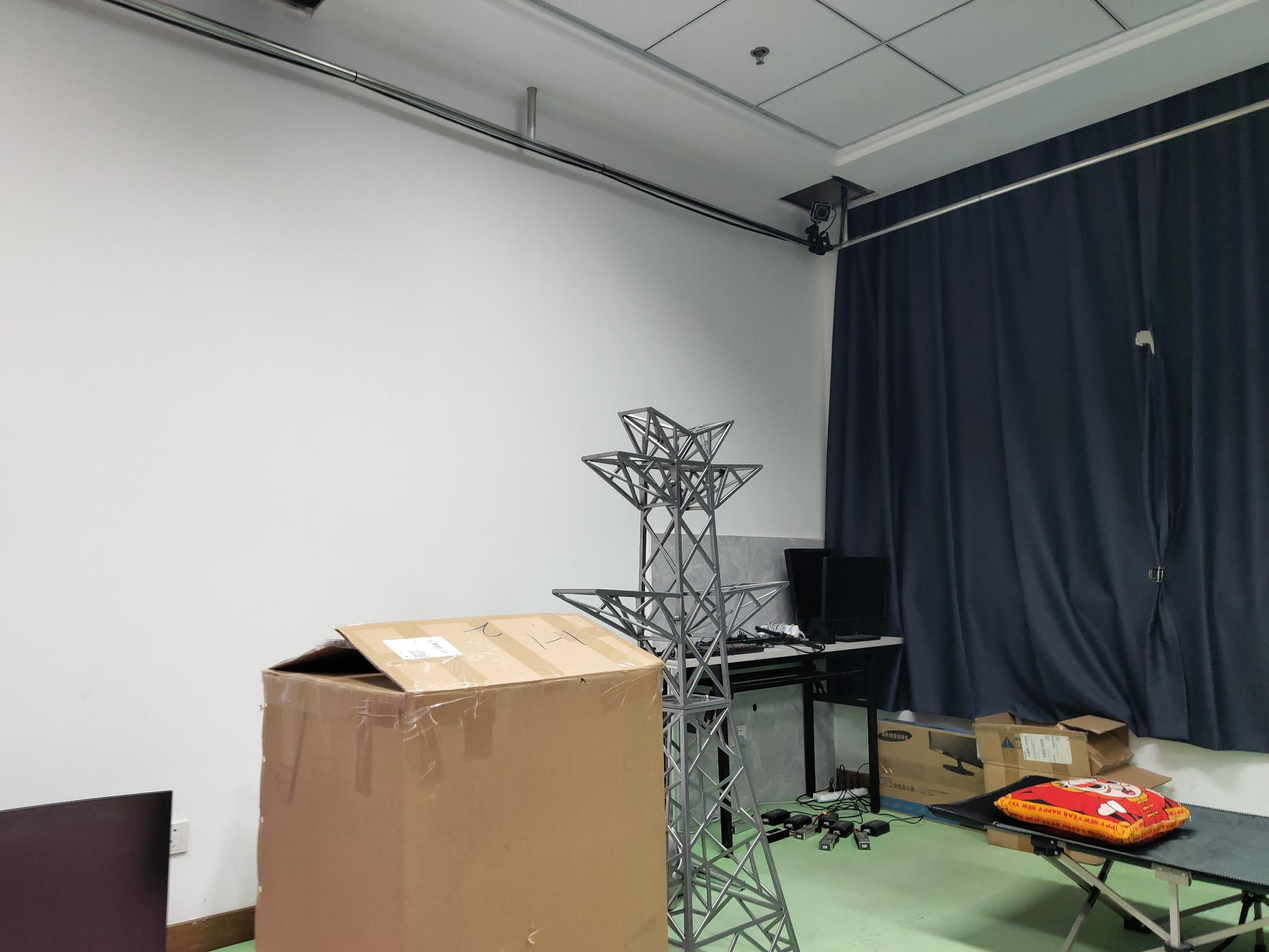tower: (586, 408, 799, 952)
